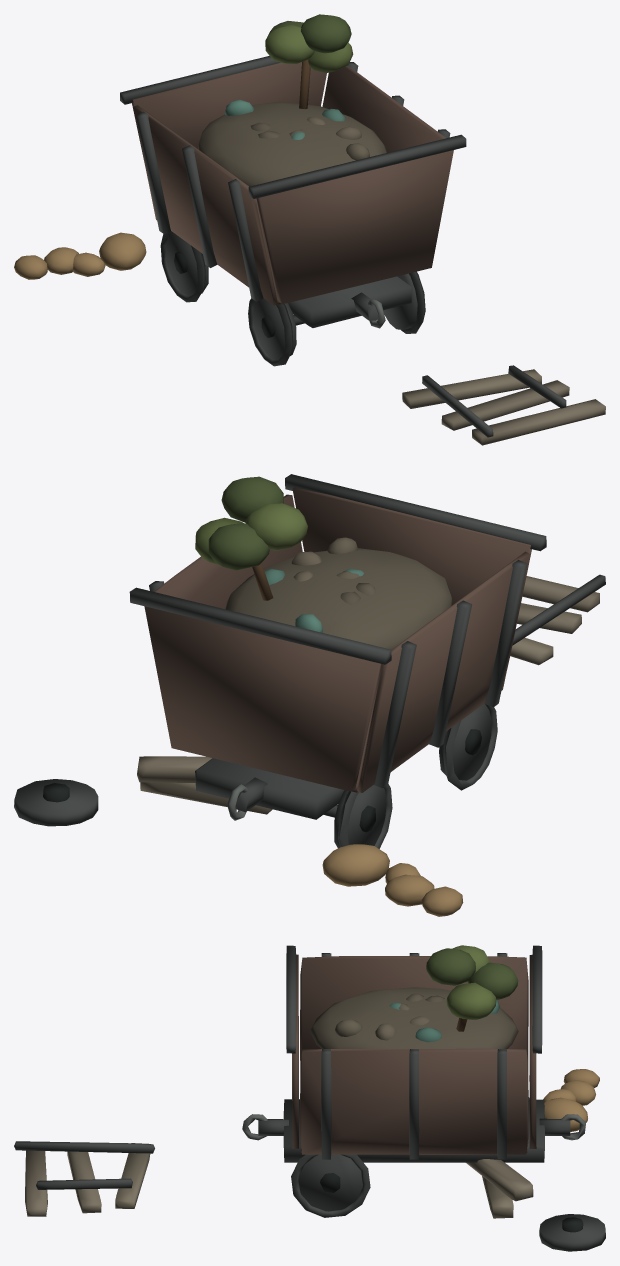
File: tram_bogie_b_lod2.glb
The picture shows the model from 3 angles, top to bottom: view 1: azimuth 30°, elevation 25°; view 2: azimuth 150°, elevation 25°; view 3: azimuth 270°, elevation 25°; orthographic projection. The views are drawn at different scales.
Visible parts, largest first — view 1: Surface.001; view 2: Surface.001; view 3: Surface.001.
Part boxes in pixels (left/top/right/bottom): Surface.001: left=14, top=14, right=605, bottom=445; Surface.001: left=14, top=474, right=605, bottom=916; Surface.001: left=14, top=945, right=605, bottom=1251.
Size of the model in its own units: 4.65 by 3.26 by 6.73.
